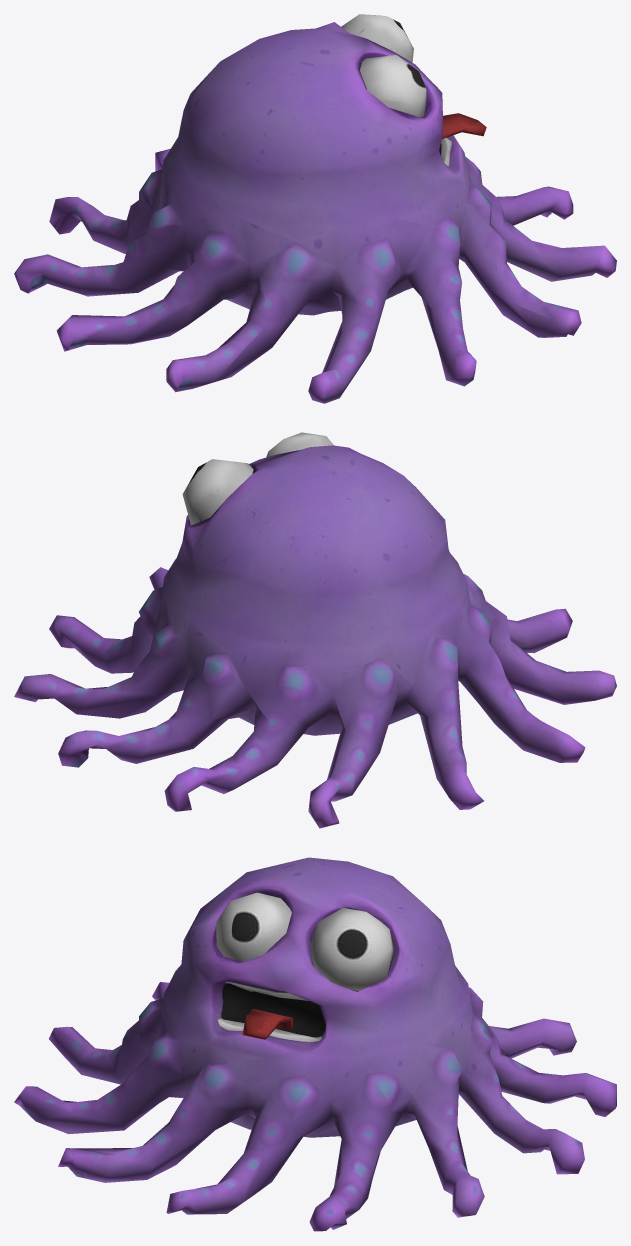
File: toy-octopus.glb
3 renders of one model, top to bottom at view 1: azimuth 30°, elevation 25°; view 2: azimuth 150°, elevation 25°; view 3: azimuth 270°, elevation 25°, orthographic.
Parts seen in each view (by area): view 1: Terrified Alien Octopus Toy.001_Terrified Alien Octopus Toy_; view 2: Terrified Alien Octopus Toy.001_Terrified Alien Octopus Toy_; view 3: Terrified Alien Octopus Toy.001_Terrified Alien Octopus Toy_.
Part boxes in pixels (left/top/right/bottom): Terrified Alien Octopus Toy.001_Terrified Alien Octopus Toy_: left=14, top=14, right=616, bottom=403; Terrified Alien Octopus Toy.001_Terrified Alien Octopus Toy_: left=14, top=432, right=616, bottom=828; Terrified Alien Octopus Toy.001_Terrified Alien Octopus Toy_: left=14, top=857, right=616, bottom=1231.
Size of the model in its own units: 0.491 by 0.2243 by 0.4867.
1 material, 1 textured.
